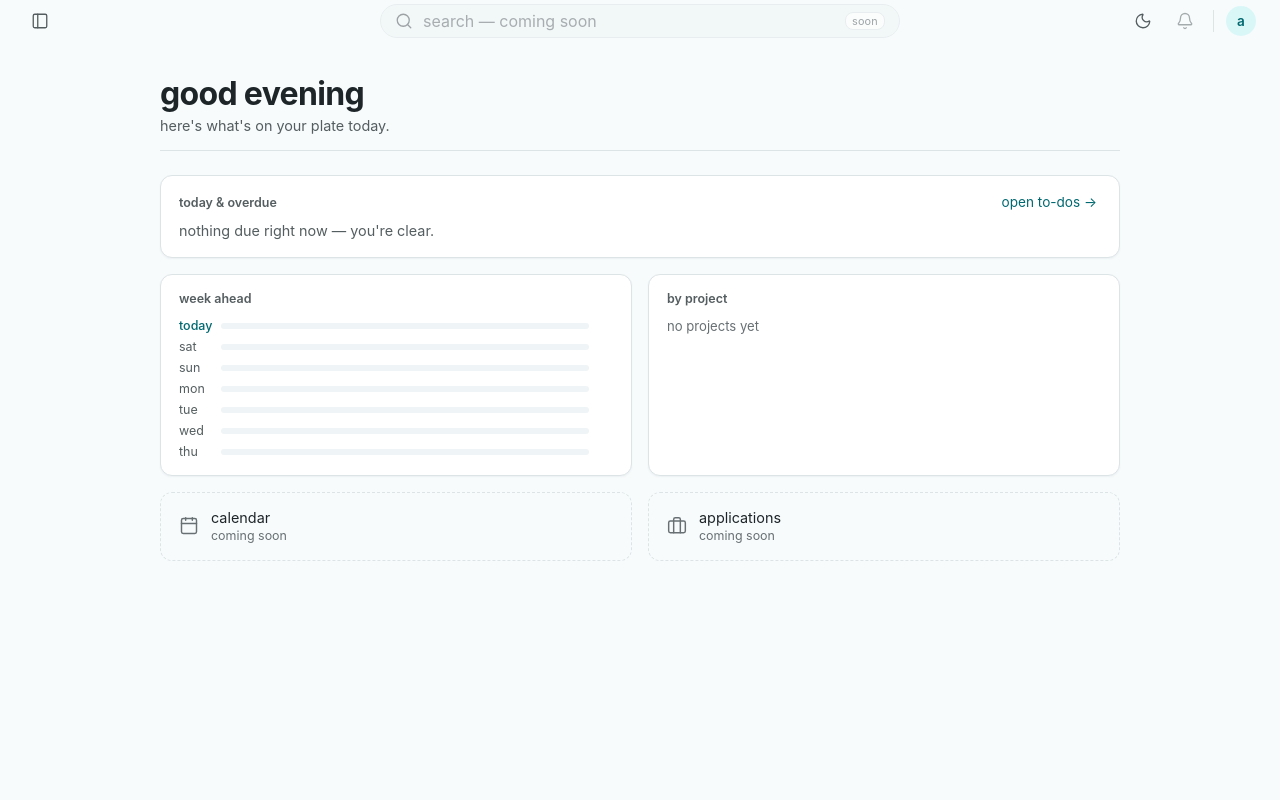
Test: TodoDashboard › opens the create input with the "c" shortcut
The width and height of the screenshot is (1280, 800).
Click the button named "toggle sidebar" at (40, 21), box top-left (24, 5), bottom-right (56, 37)
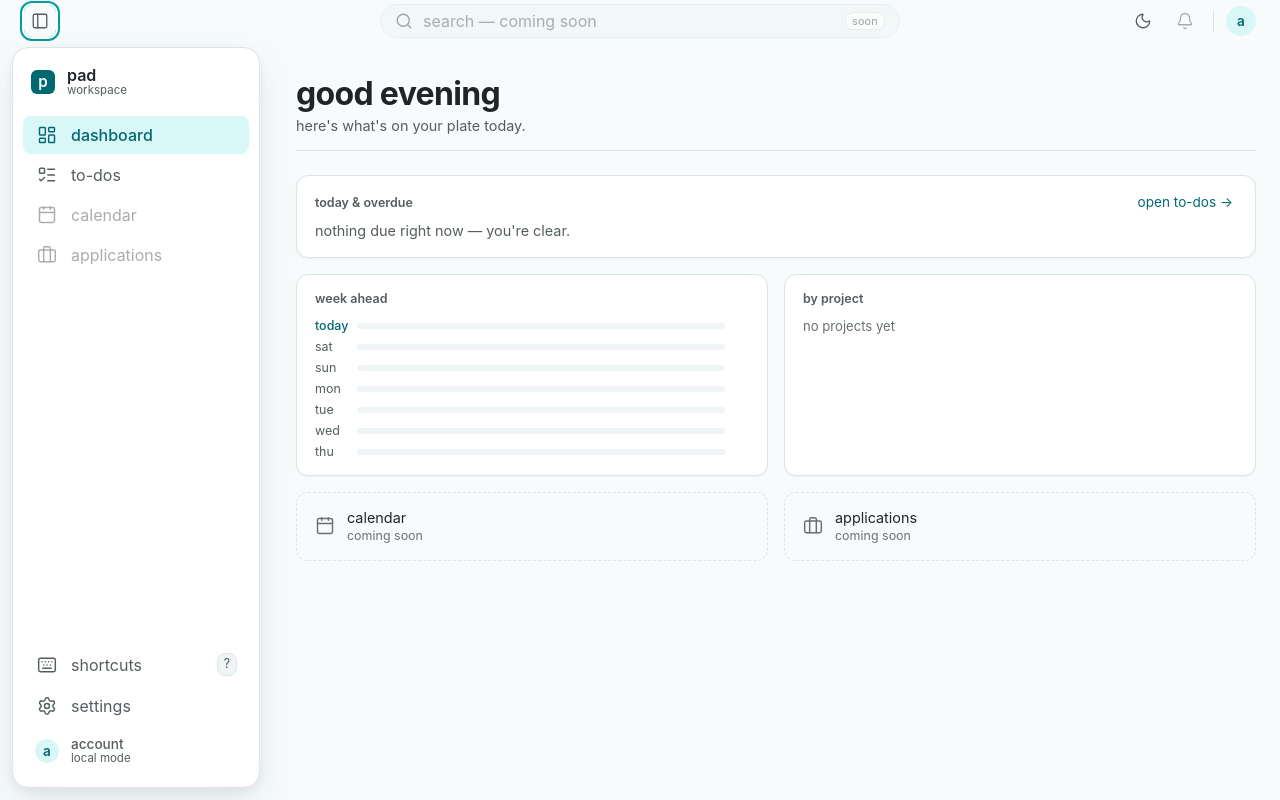
Click the button "to-dos" at (136, 175), box top-left (23, 156), bottom-right (249, 194)
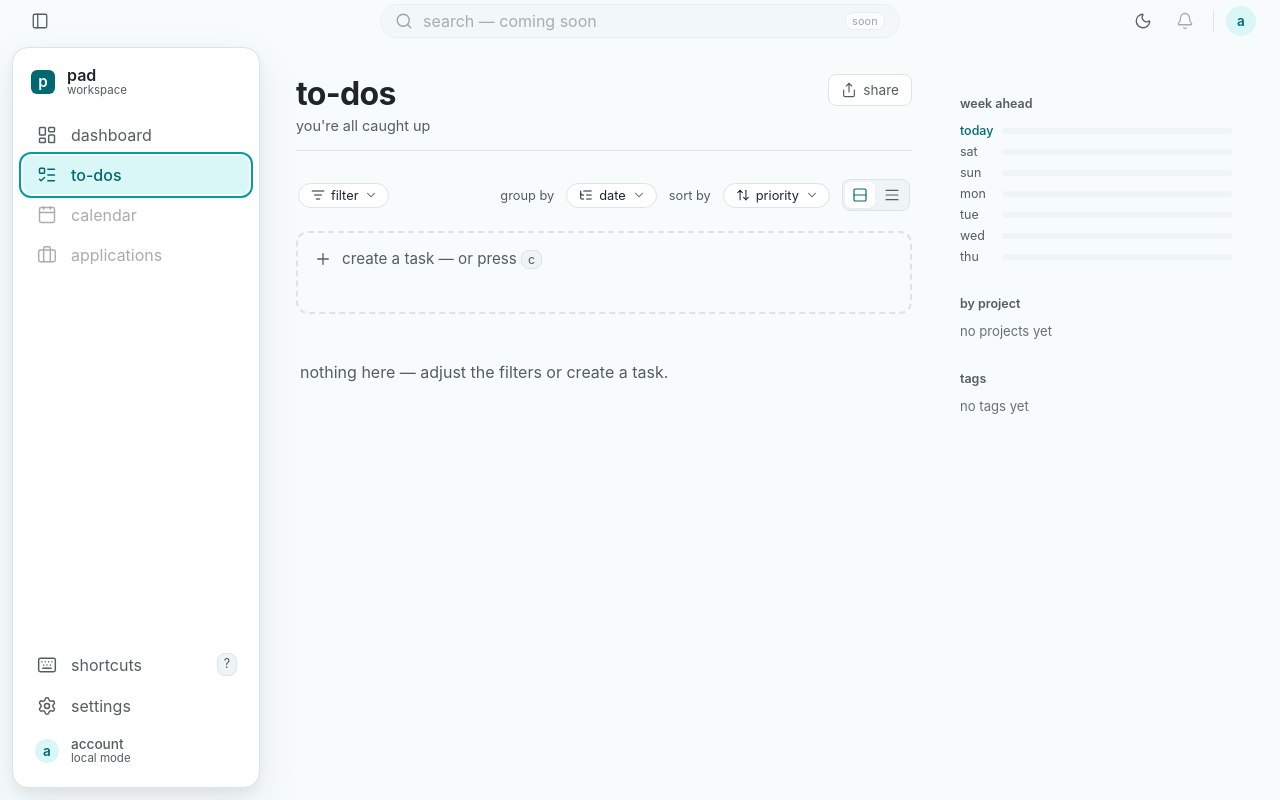
Expected: the button "create a task — or press c" is shown, top-left (296, 231), bottom-right (912, 314)
Type keys "c"
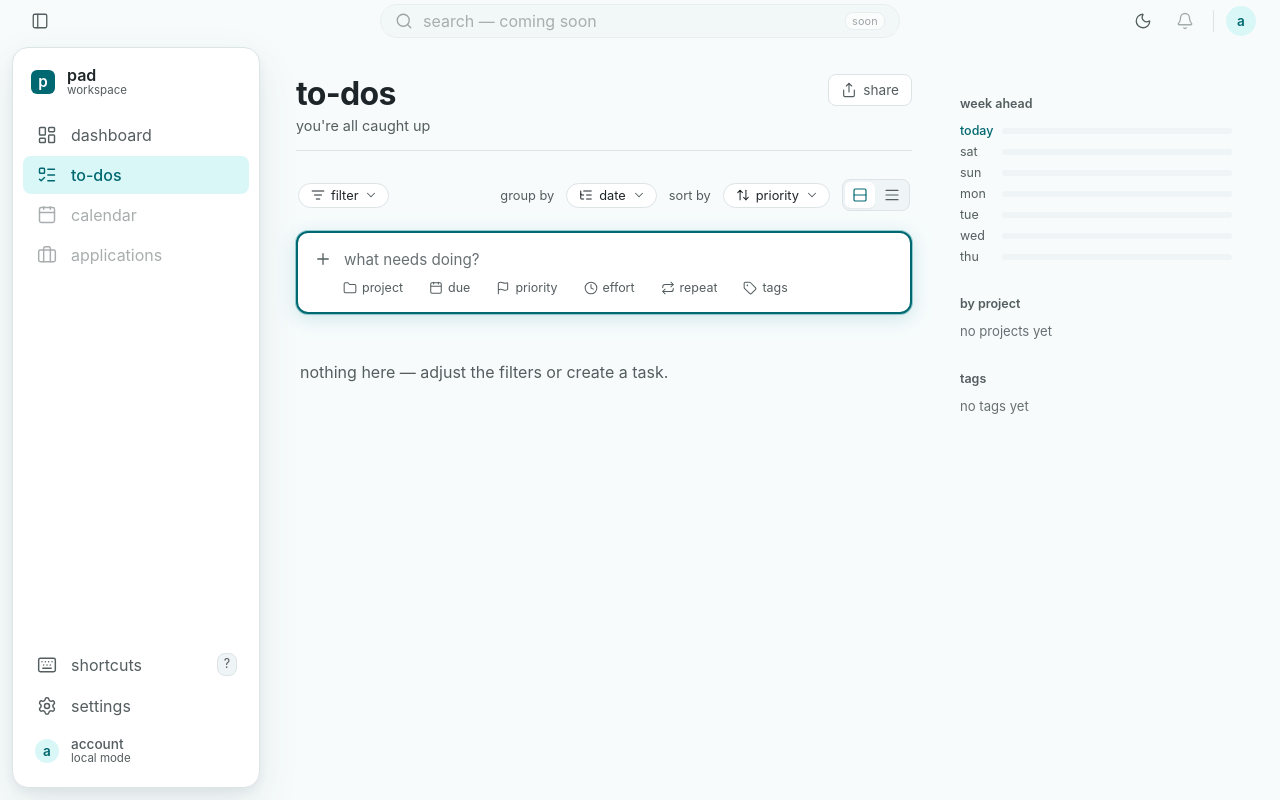
Expected: the field named "new task title" is shown, top-left (342, 248), bottom-right (884, 270)
